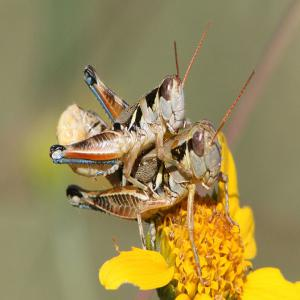locust: (72, 55, 197, 173)
